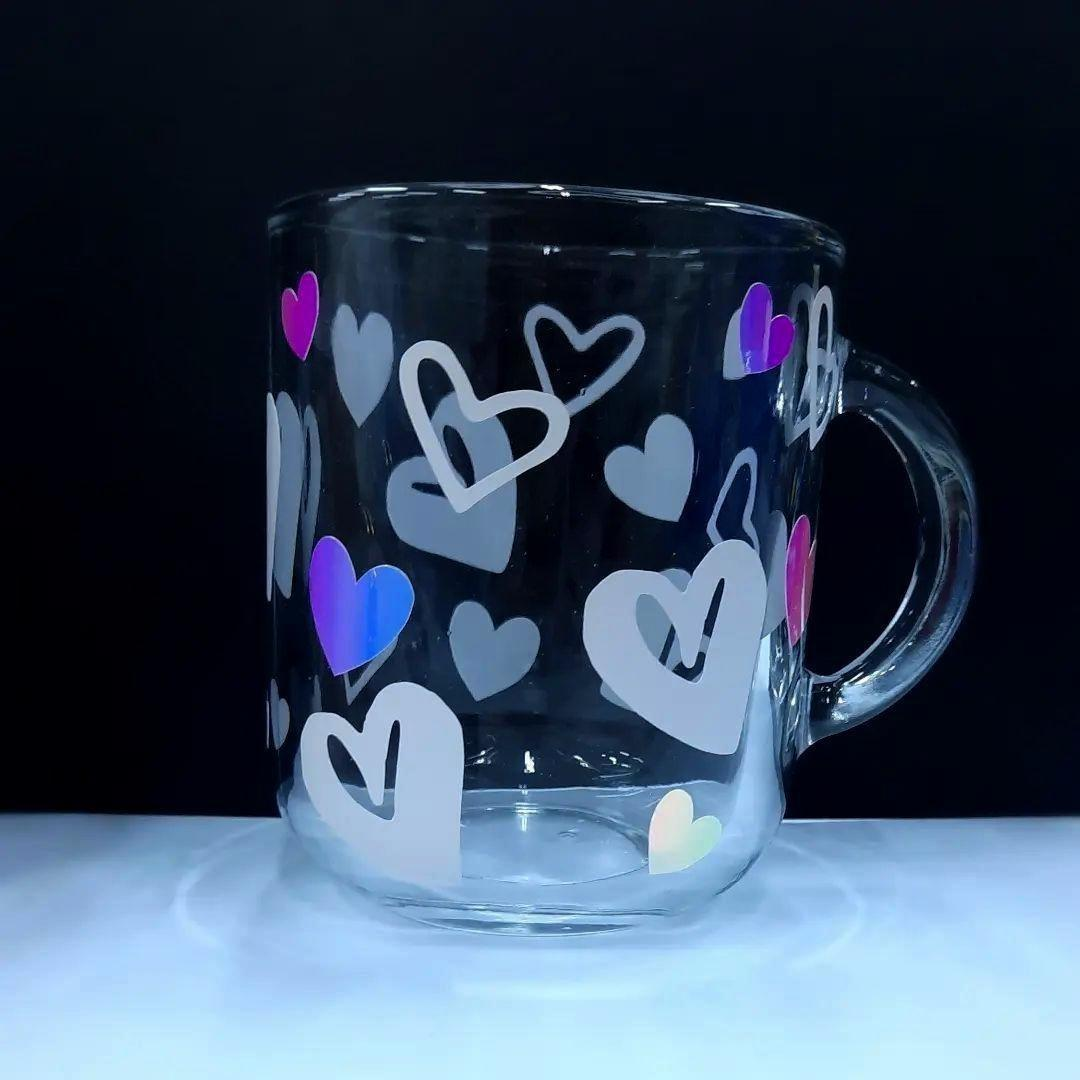glass-mug: (232, 170, 992, 966)
